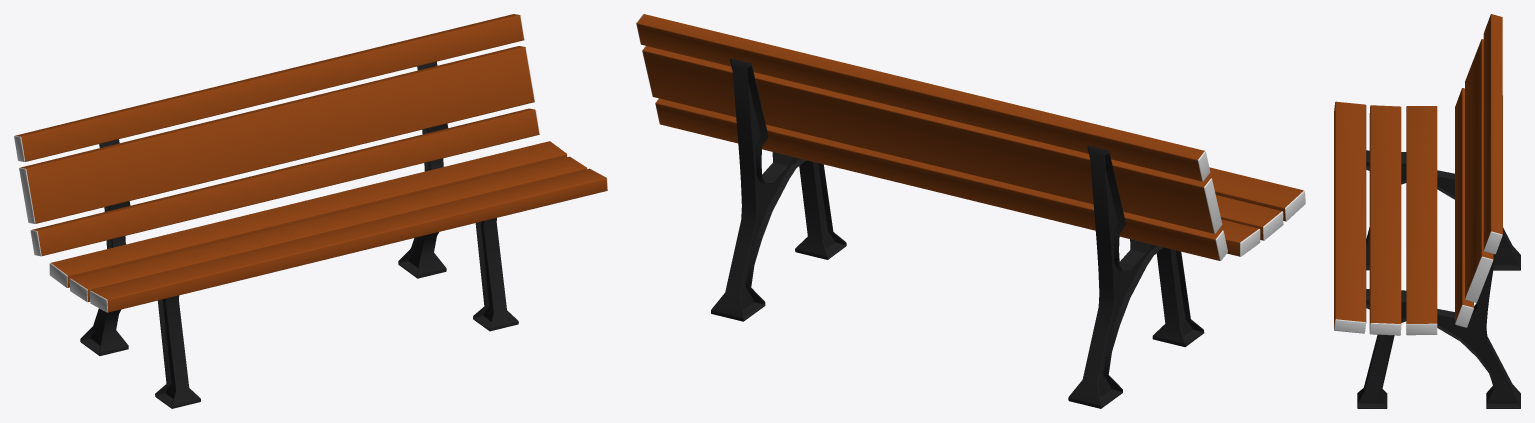
Rendered from bench.fbx.
3 renders of one model, left to right at view 1: azimuth 30°, elevation 25°; view 2: azimuth 150°, elevation 25°; view 3: azimuth 270°, elevation 25°, orthographic. The views are drawn at different scales.
Visible parts, largest first — view 1: Bench; view 2: Bench; view 3: Bench.
Part boxes in pixels (<box>): Bench: <box>14,14,607,408</box>; Bench: <box>636,14,1305,408</box>; Bench: <box>1334,14,1520,408</box>.
Size of the model in its own units: 1864 by 838 by 674.
